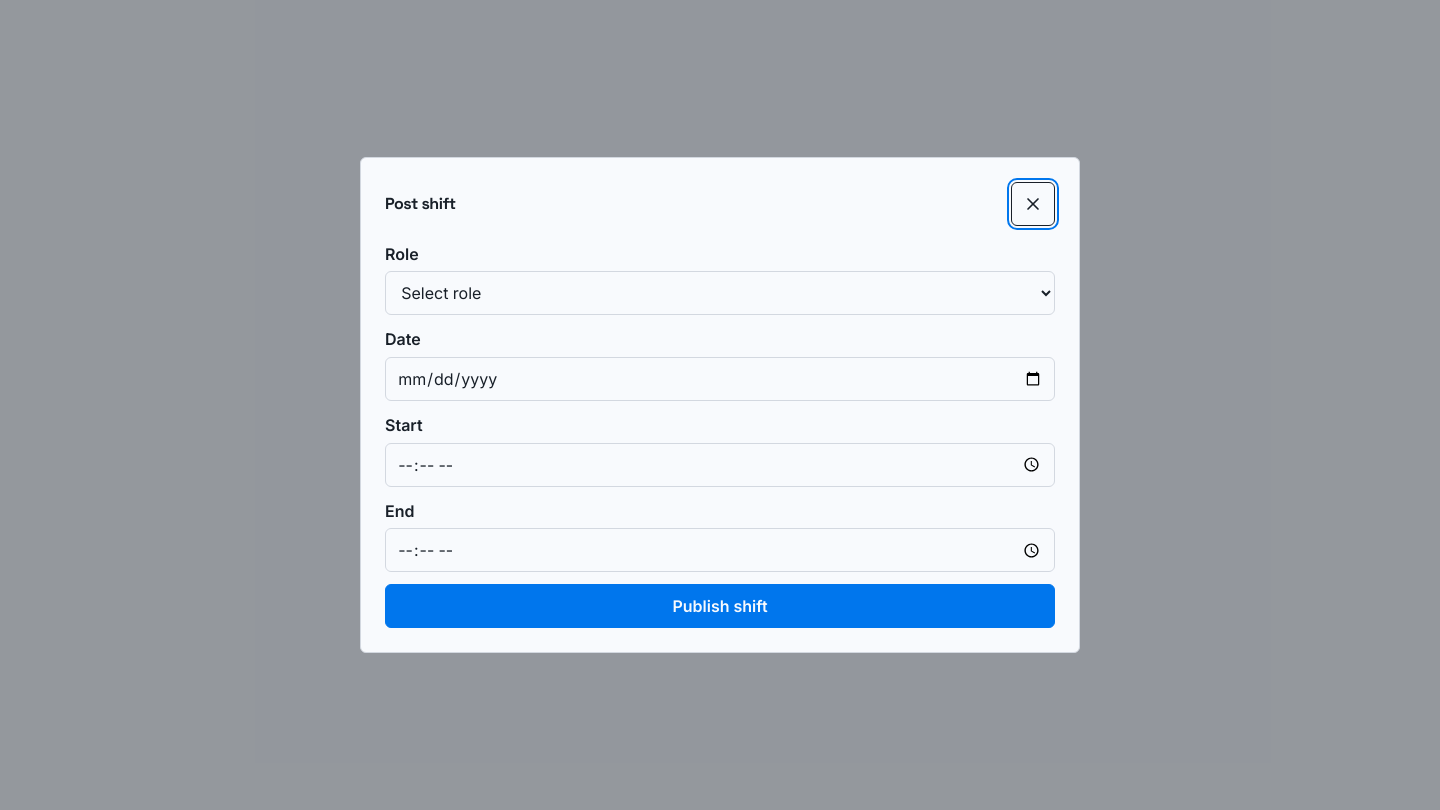
it: keeps the publishing draft when confirmation is dismissed with Backdrop
Select "RN" in the dropdown labelled "Role" at (720, 293), box [385,271,1055,315]
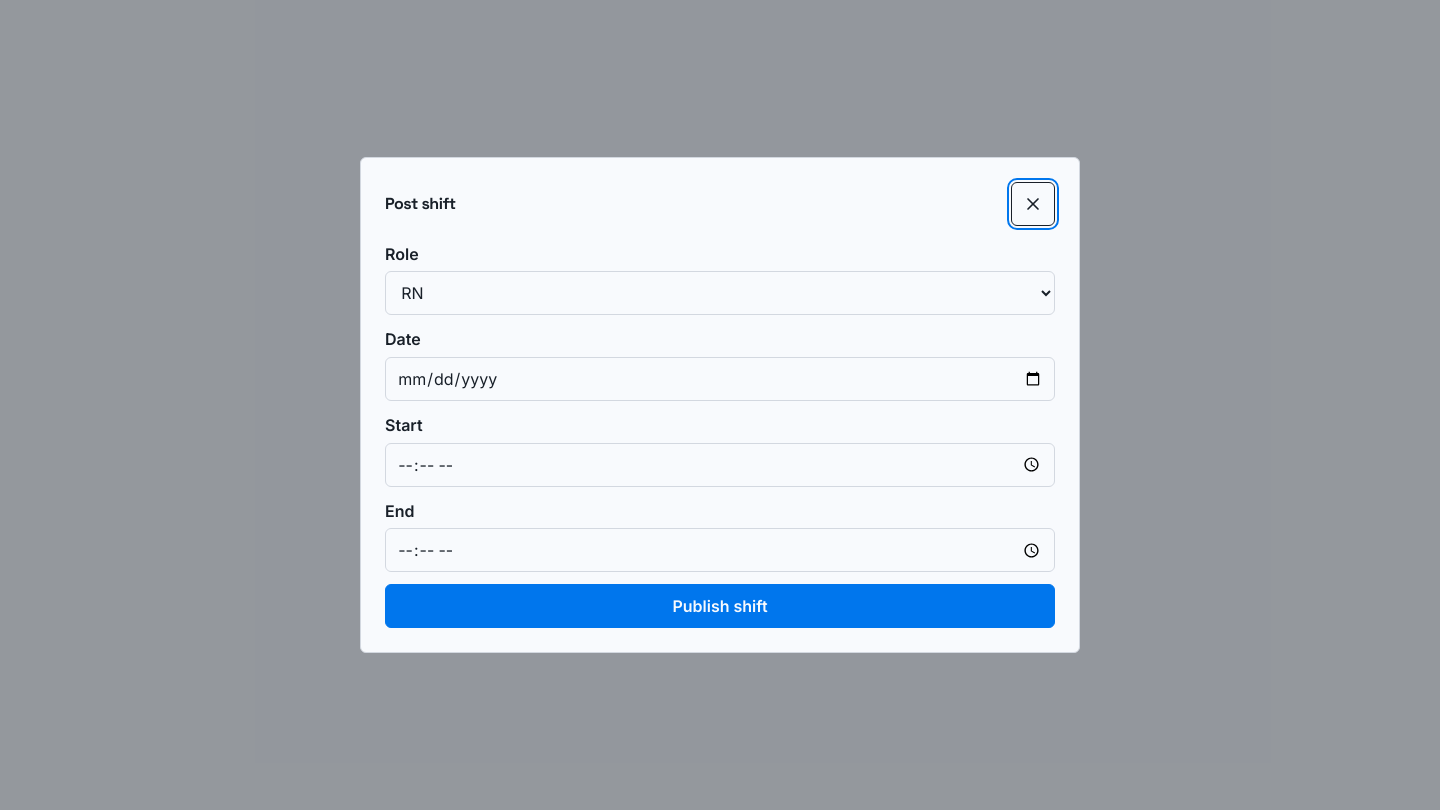
Type "2026-10-20" into the date field labelled "Date" at (720, 379), box [385,357,1055,401]
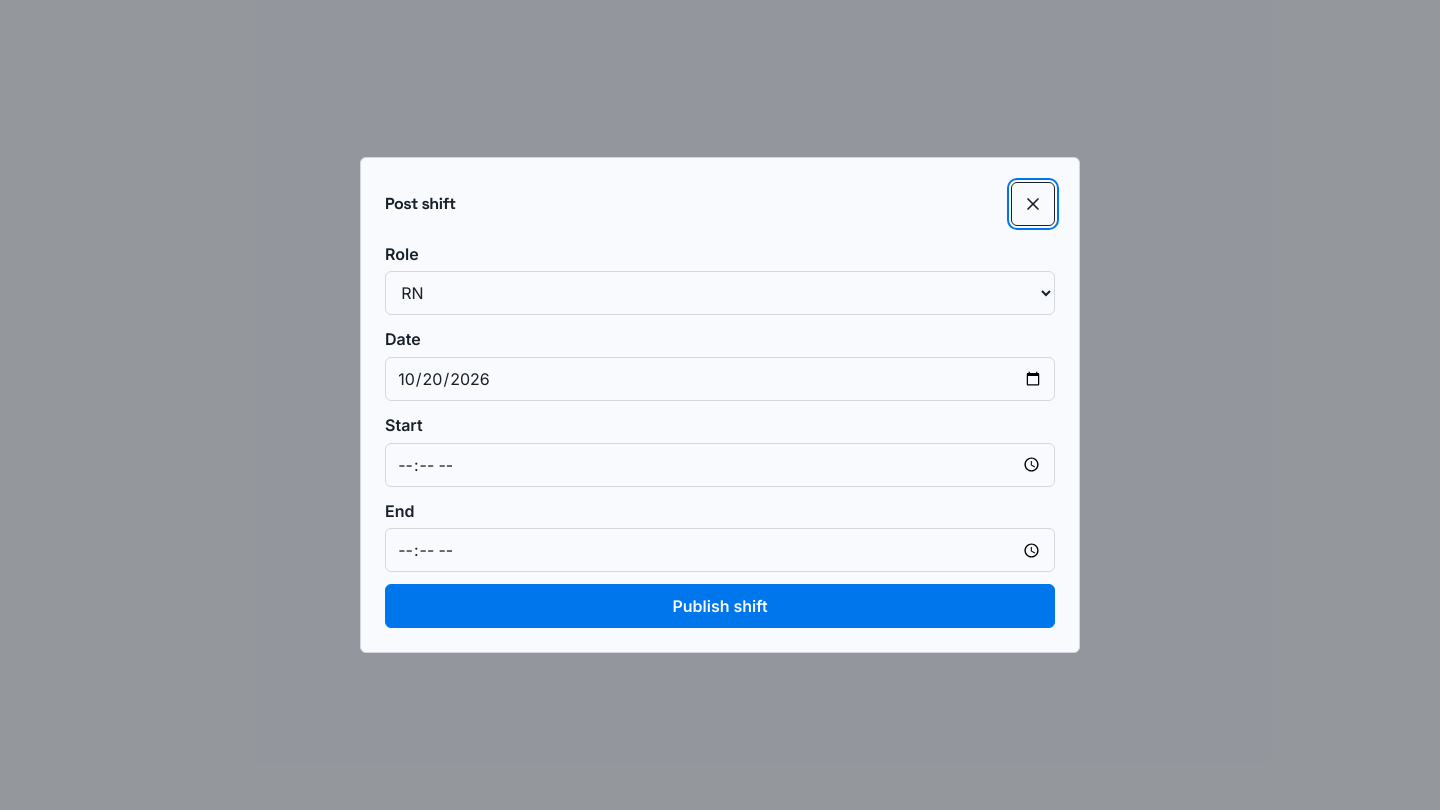
Type "19:00" into the time field labelled "Start" at (720, 465), box [385,443,1055,487]
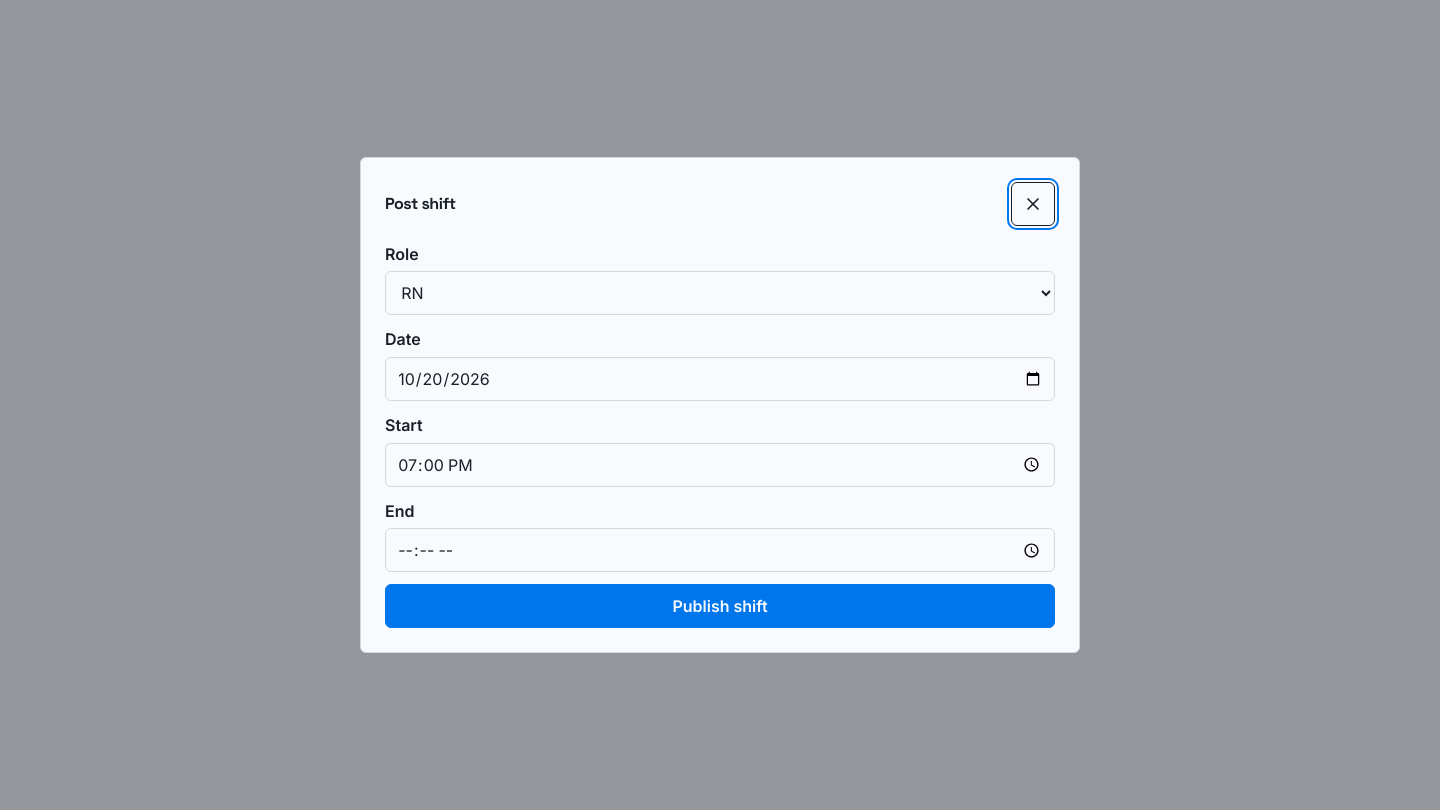
Type "07:00" into the time field labelled "End" at (720, 550), box [385,528,1055,572]
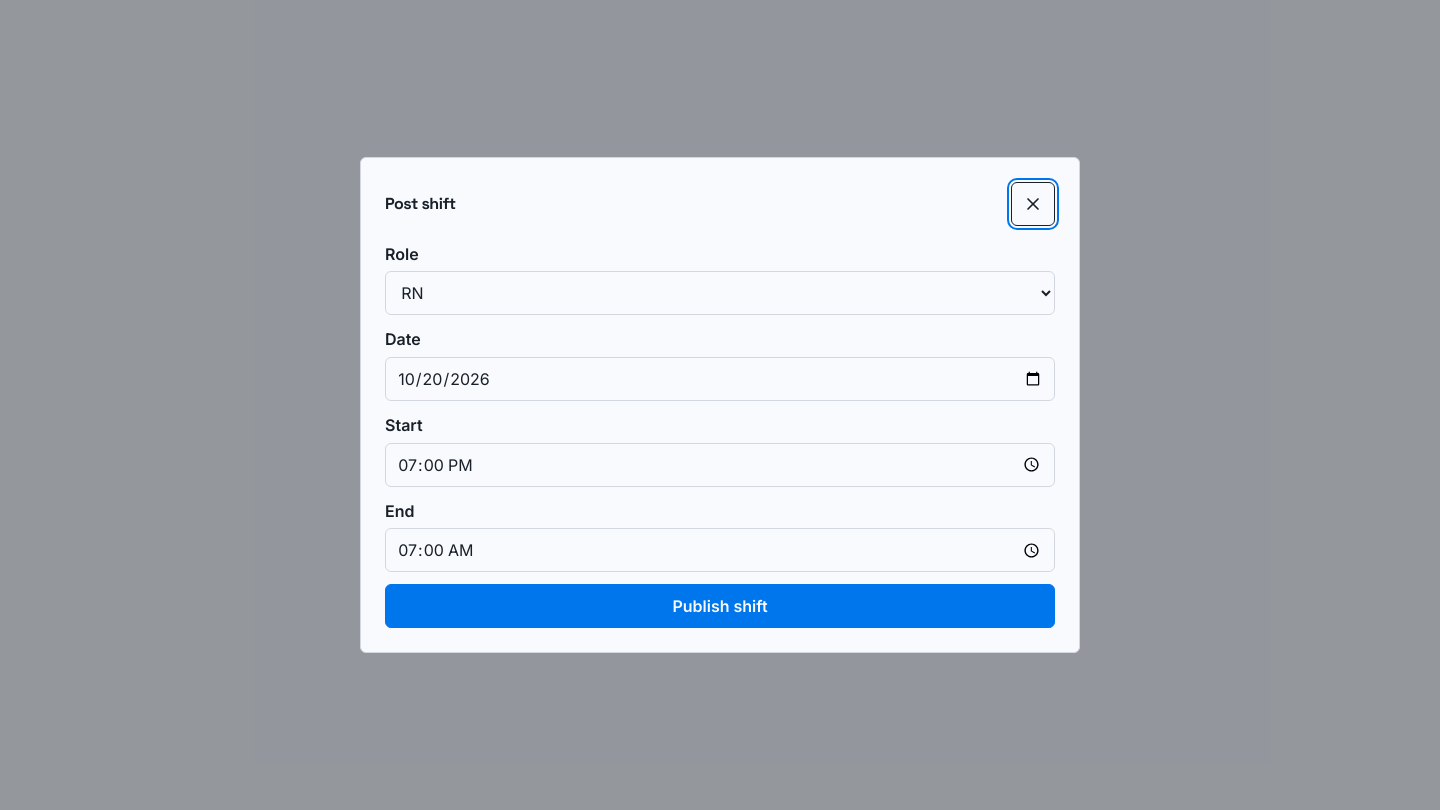
Click the button "Publish shift" at (720, 606), box [385,584,1055,628]
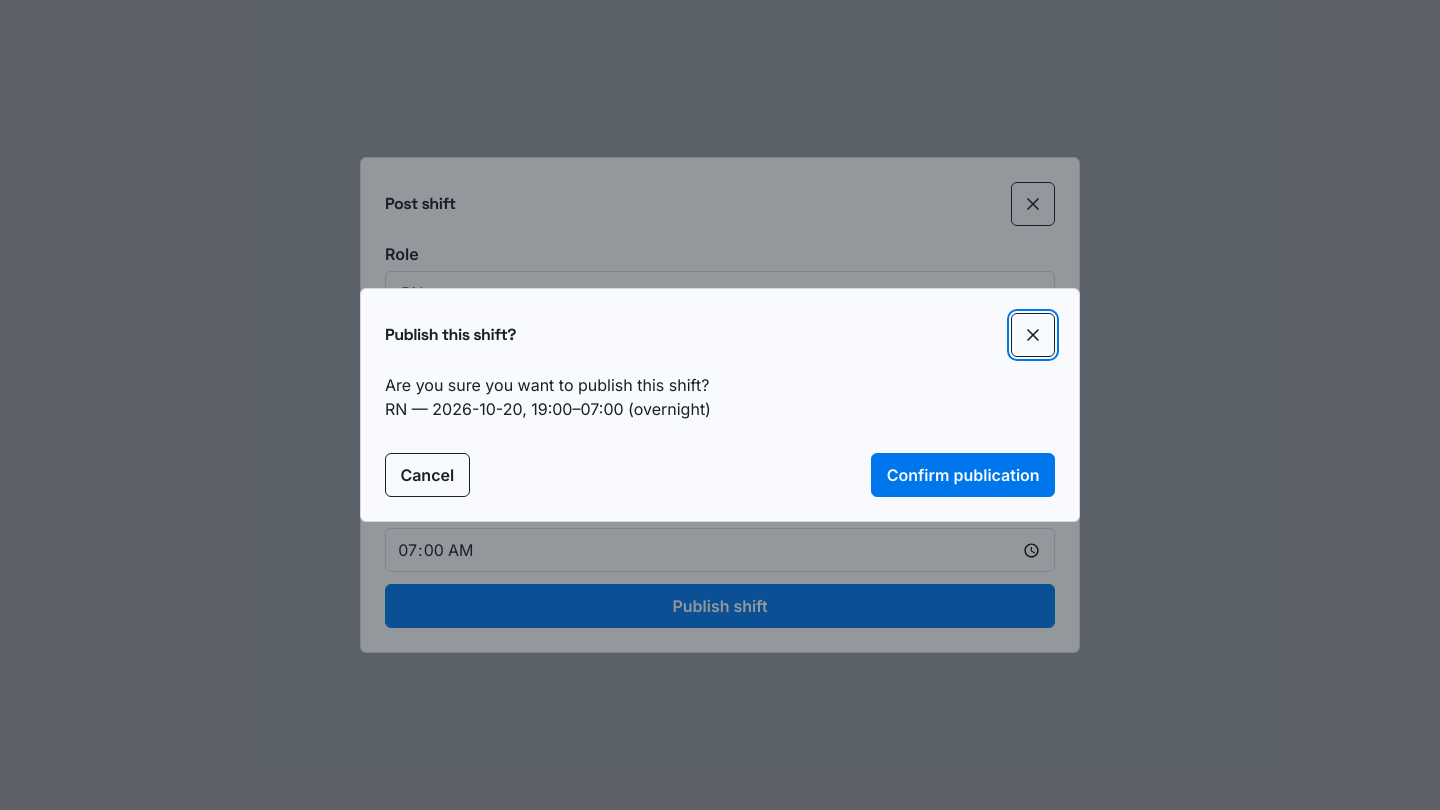
Click the dialog "Publish this shift?" at (720, 405), box [360,288,1080,522]
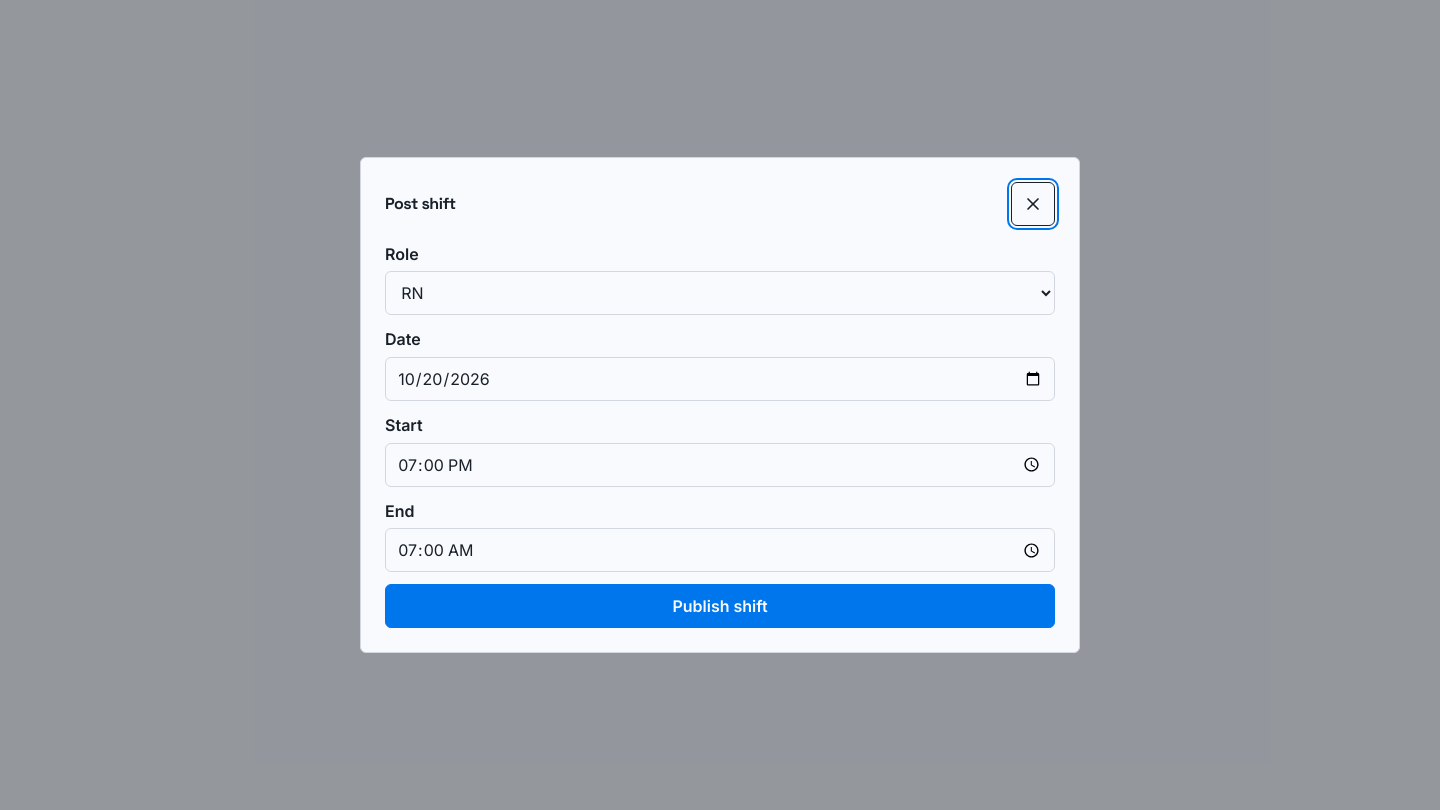
Check: the dialog "Post shift" is shown, box [360,157,1080,653]
Check: the heading "Publish this shift?" is gone
